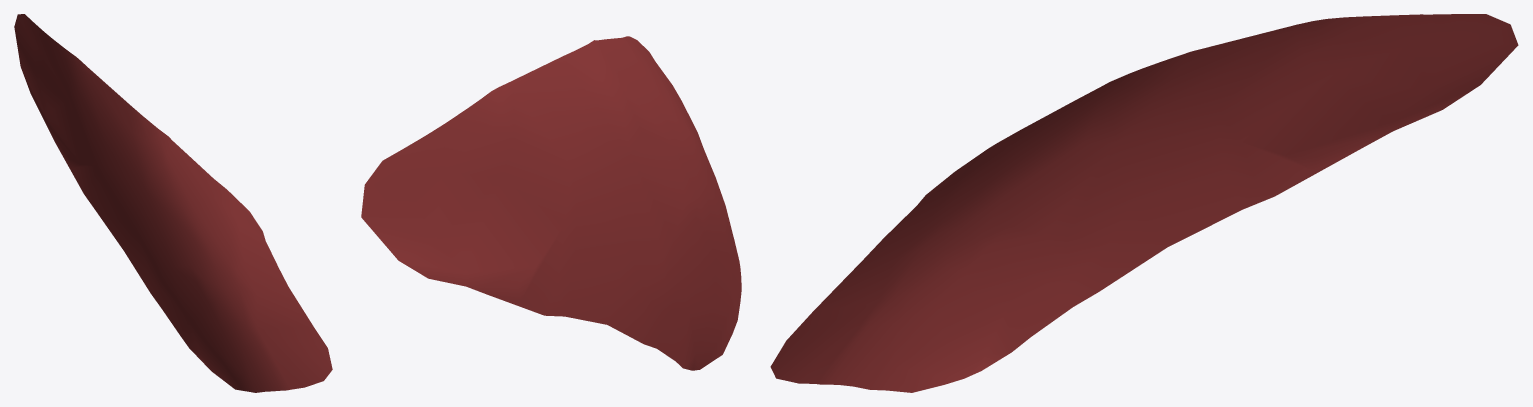
Rendered from serratus-anterior-muscle-e2l.glb.
The picture shows the model from 3 angles, left to right: view 1: azimuth 30°, elevation 25°; view 2: azimuth 150°, elevation 25°; view 3: azimuth 270°, elevation 25°; orthographic projection. The views are drawn at different scales.
Parts seen in each view (by area): view 1: Serratus anterior muscle.e2l; view 2: Serratus anterior muscle.e2l; view 3: Serratus anterior muscle.e2l.
Boxes of the visible parts, left/top/right/bottom form: Serratus anterior muscle.e2l: left=14, top=14, right=332, bottom=392; Serratus anterior muscle.e2l: left=361, top=36, right=741, bottom=370; Serratus anterior muscle.e2l: left=770, top=14, right=1518, bottom=392.
Bounding box in the file's own units: 0.00657 × 0.0183 × 0.034.
